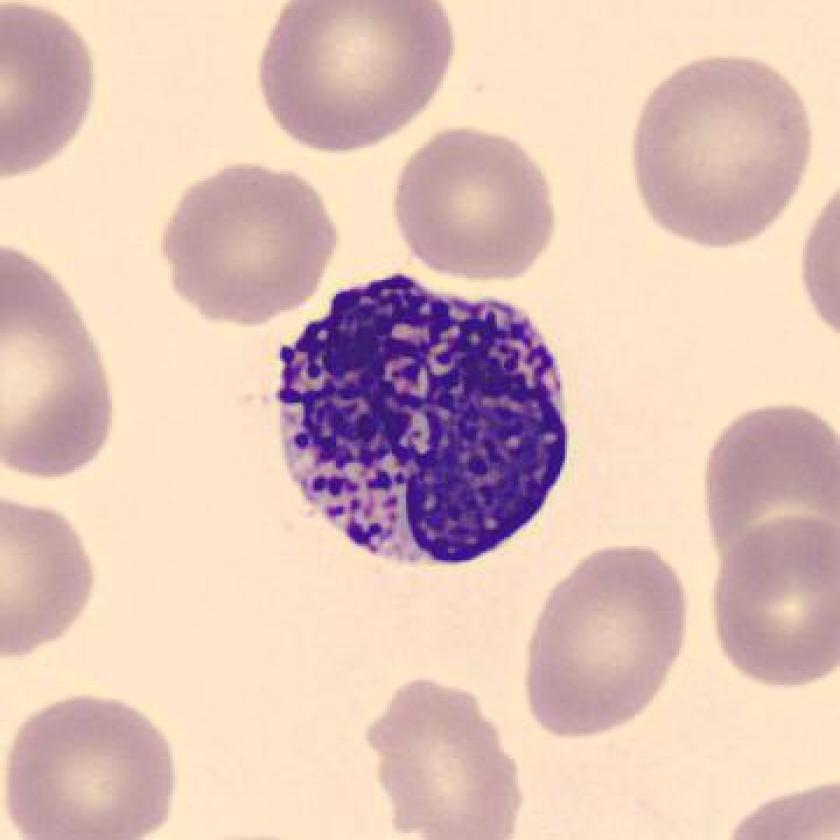basophil: (267, 265, 580, 570)
